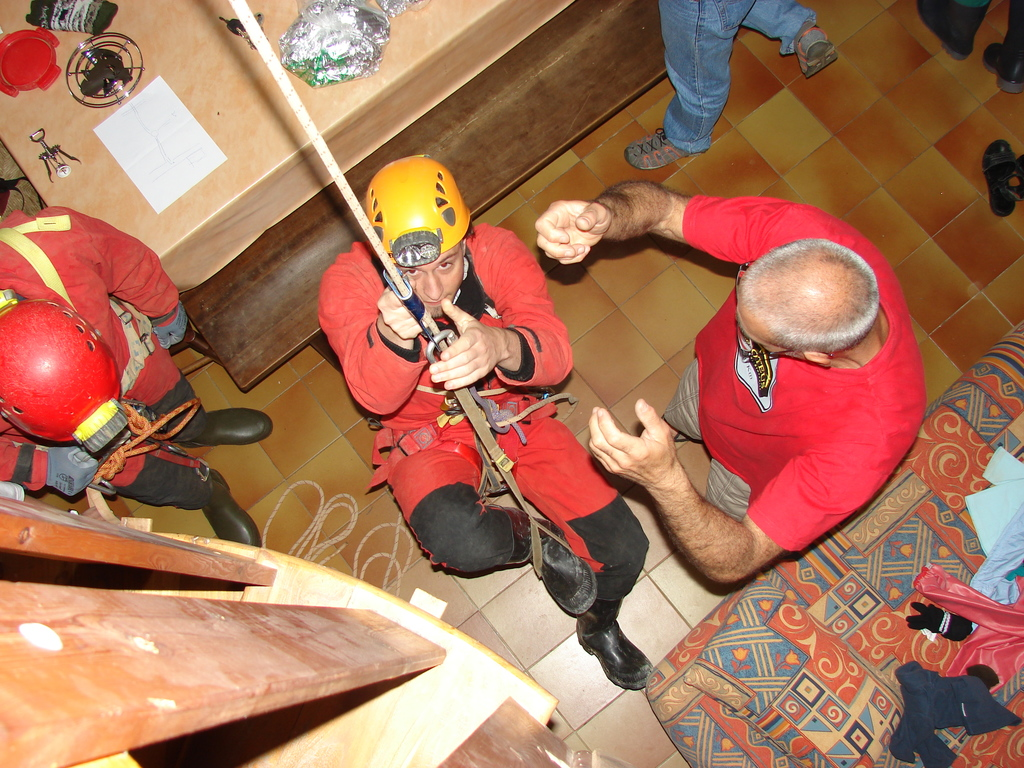Footwear: (109, 445, 263, 548), (486, 504, 594, 614), (152, 367, 279, 447), (574, 605, 653, 709), (911, 0, 996, 67), (977, 0, 1023, 95), (976, 138, 1023, 219), (623, 130, 712, 171), (796, 20, 852, 79)
